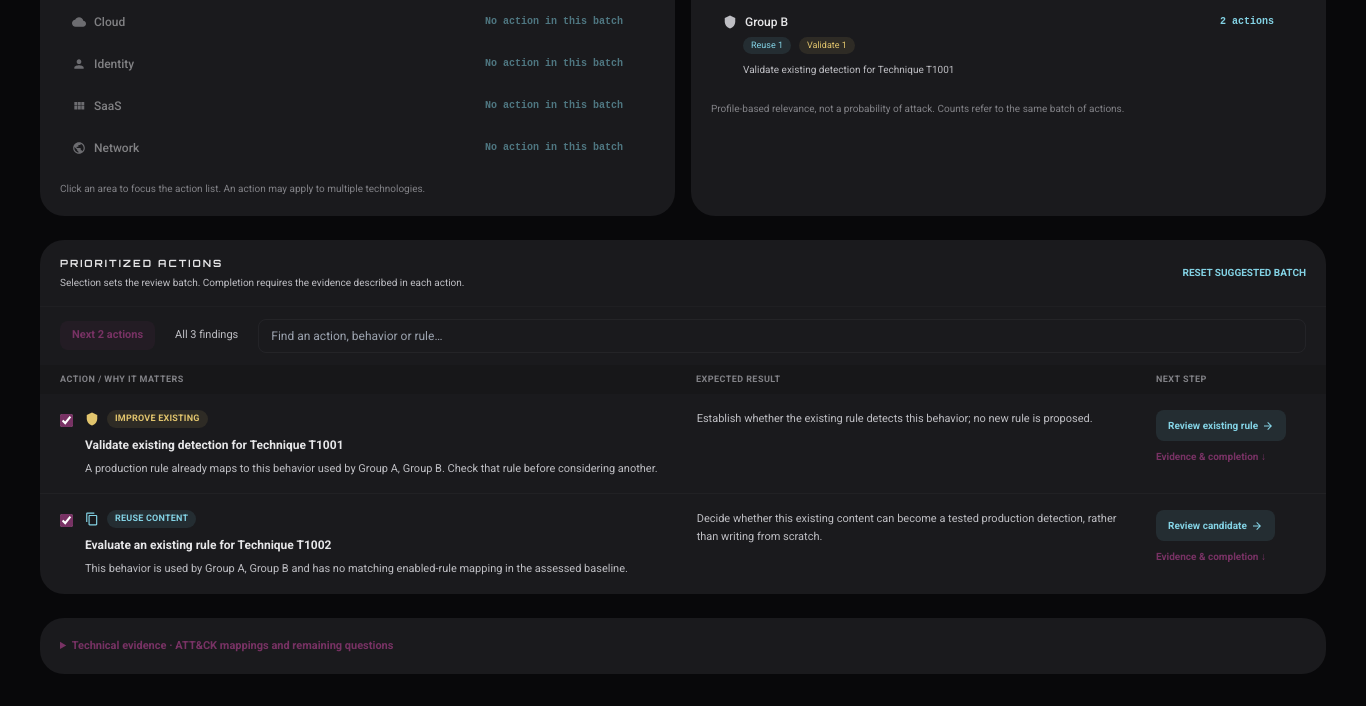
Test case: assessment presents actions and evidence in the original design language › states the specific outcome and completion criteria and keeps alternatives inside the action
(page scrolled)
Expected: the text "no new rule is proposed" is shown, [697,412,1093,425]
Click the button "Evidence & completion ↓" below "Review candidate" at (1211, 557), box [1156,549,1266,564]
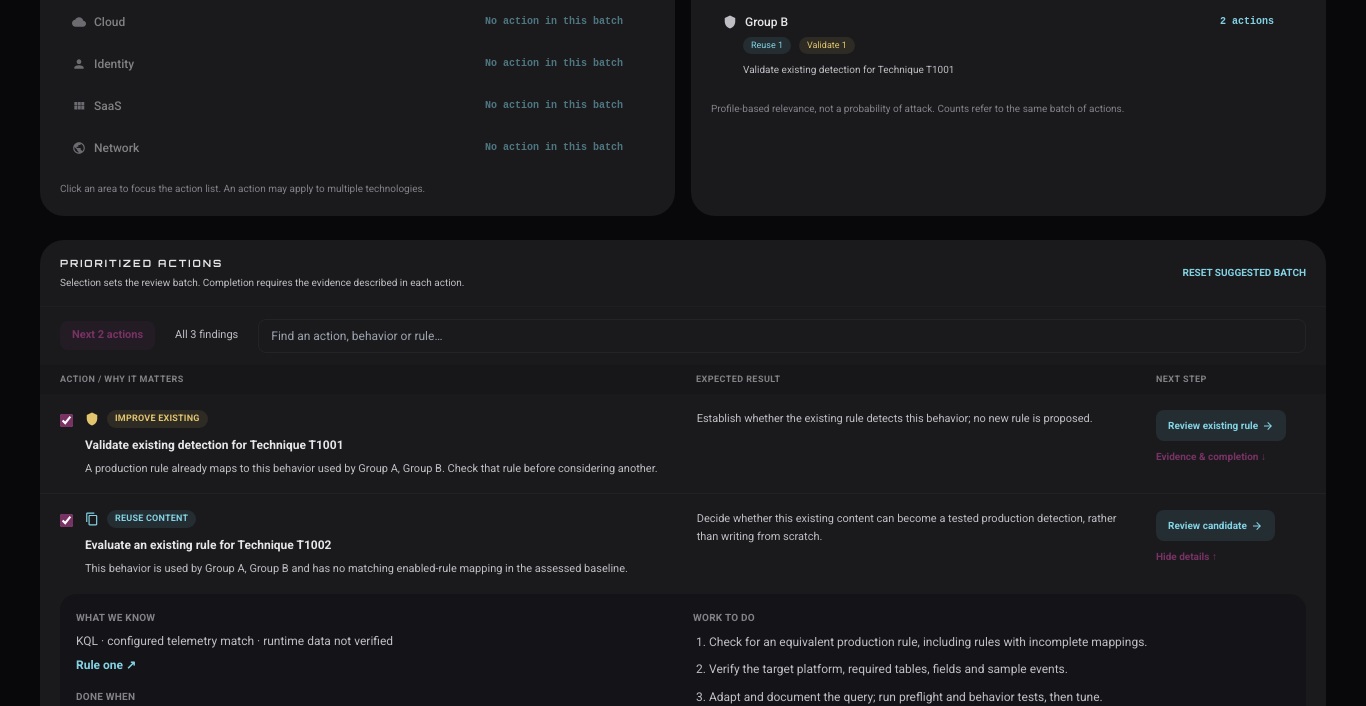
Now the heading "Done when" is shown, box [76,691,135,702]
